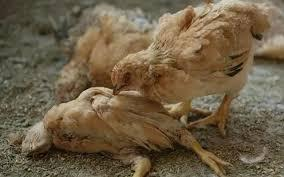AbNormal: (109, 2, 264, 134), (26, 87, 233, 177)
